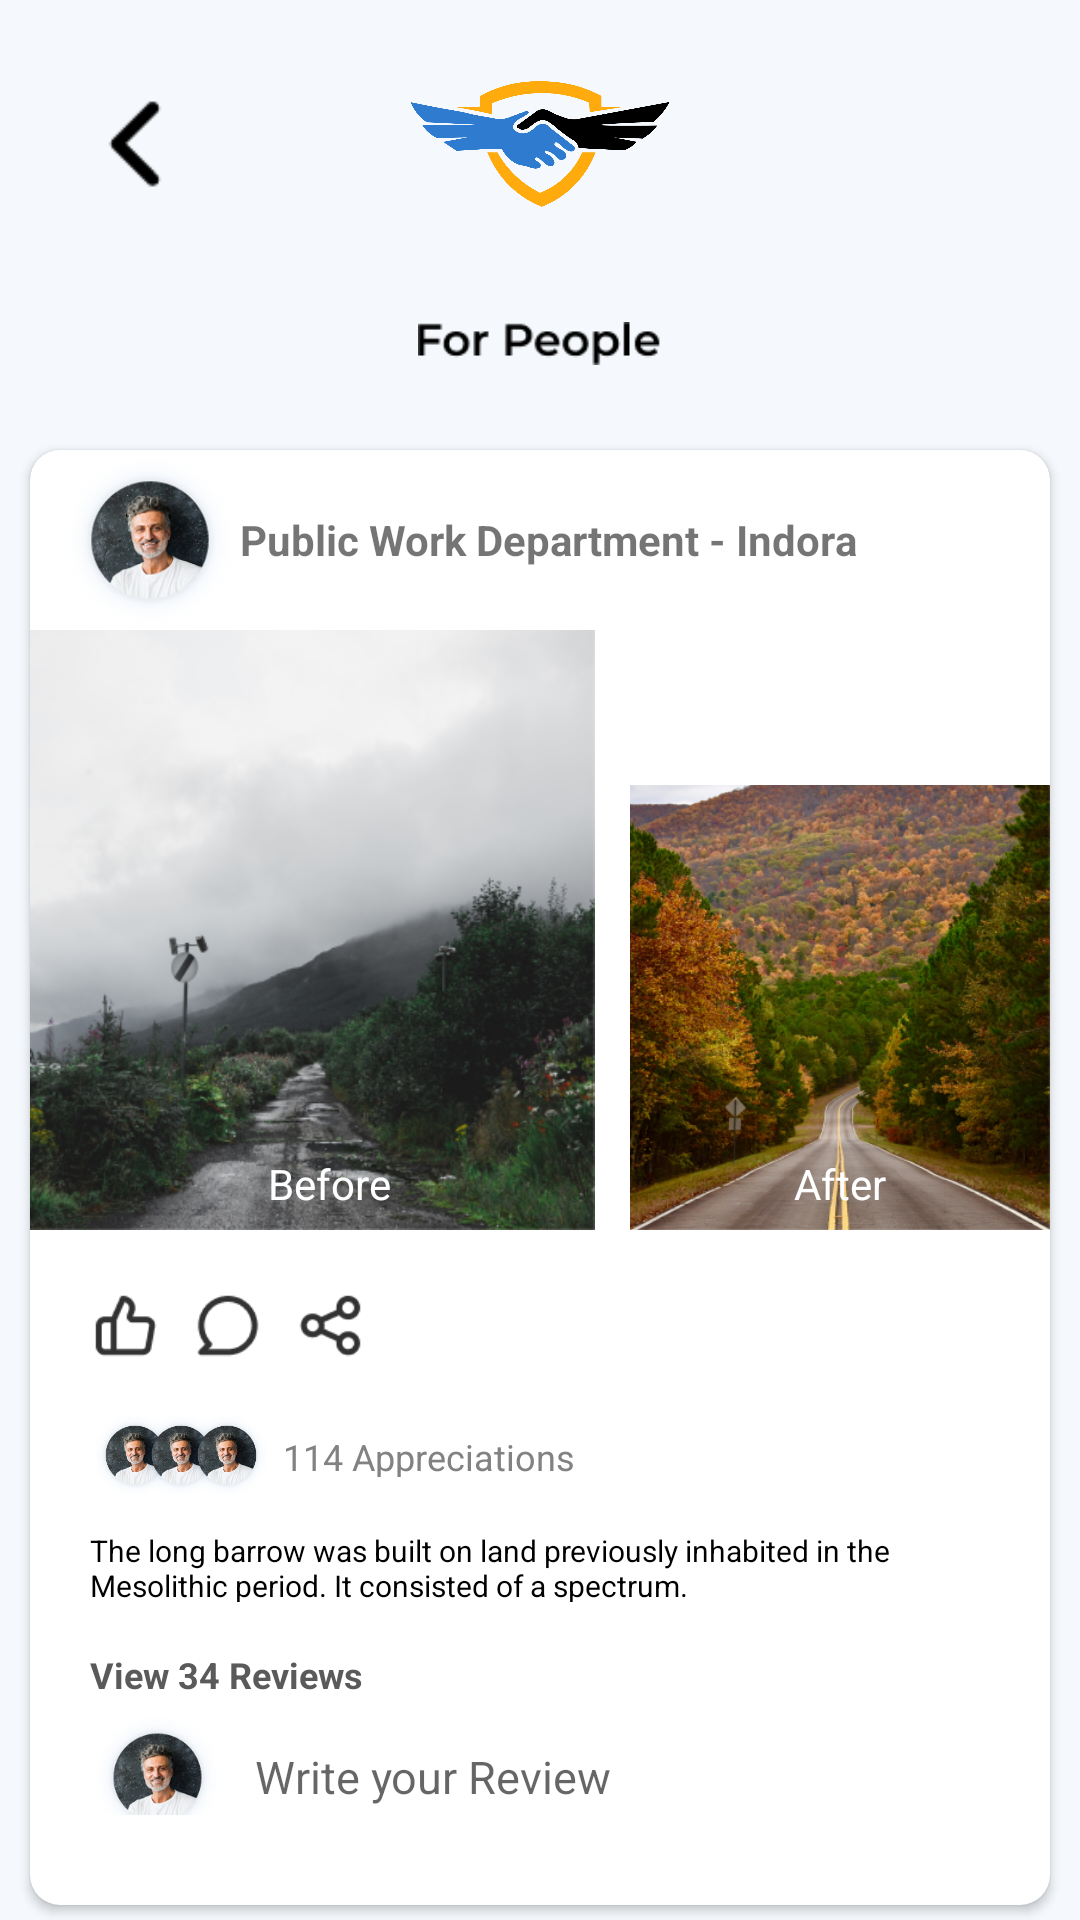

Locate icon controls on the screen. Image size 1080×1920, boxes as (x1, y1, x2, y2).
backbtn: (109, 101, 161, 187)
commentimg: (197, 1295, 259, 1356)
likeimg: (95, 1295, 156, 1356)
shareimg: (300, 1295, 361, 1356)
